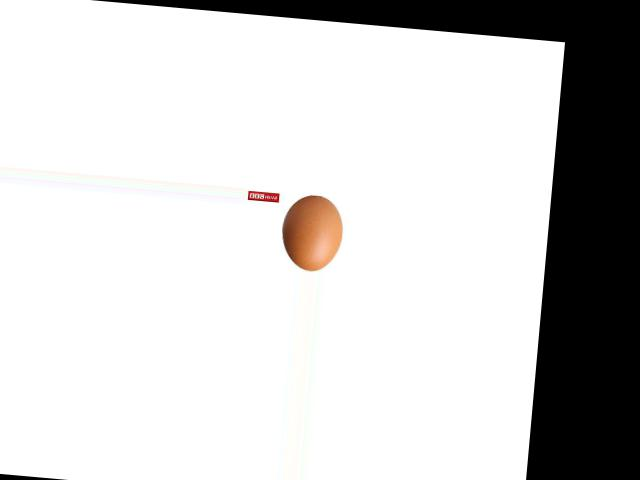egg: (280, 193, 345, 272)
